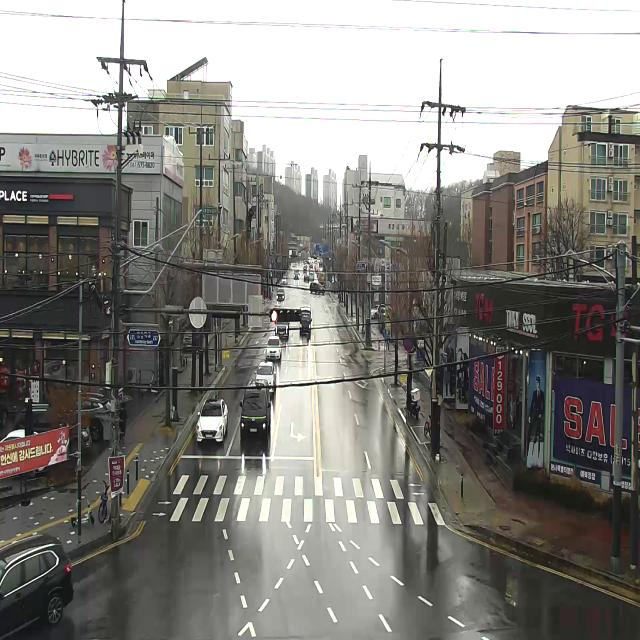Car: (0, 533, 74, 639), (12, 412, 92, 460), (0, 429, 45, 478), (239, 379, 271, 440), (74, 392, 110, 442), (196, 399, 228, 444), (254, 362, 276, 393), (265, 336, 282, 359), (275, 322, 290, 338), (372, 304, 386, 319), (310, 282, 325, 294), (183, 329, 192, 346), (276, 288, 285, 301), (282, 276, 288, 285), (294, 271, 300, 279), (309, 272, 314, 281), (304, 275, 310, 282)
Truck: (300, 306, 312, 336), (319, 272, 326, 284)
